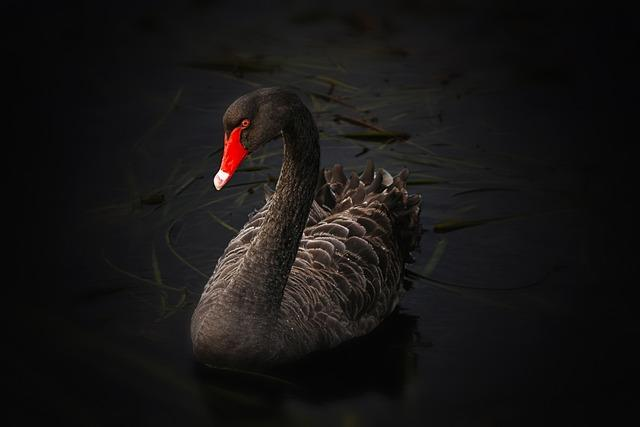bird: (191, 88, 421, 368)
